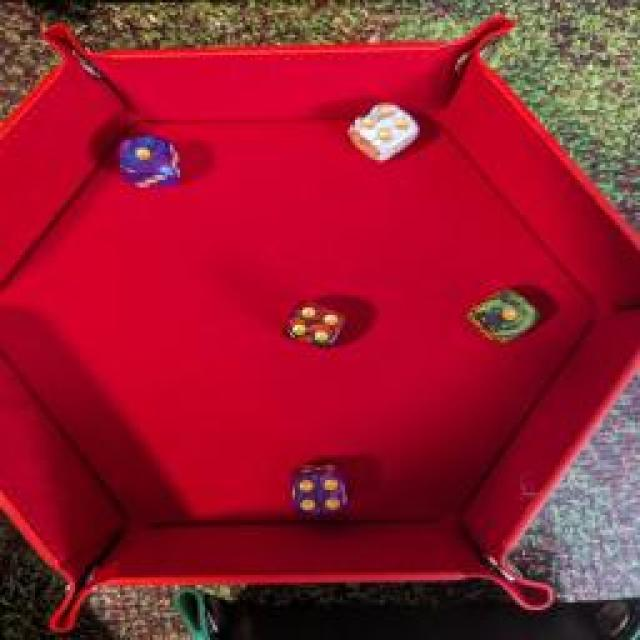dice_1: (463, 284, 545, 344), (111, 132, 189, 192)
dice_4: (345, 99, 427, 166), (274, 294, 351, 351), (285, 460, 357, 518)
